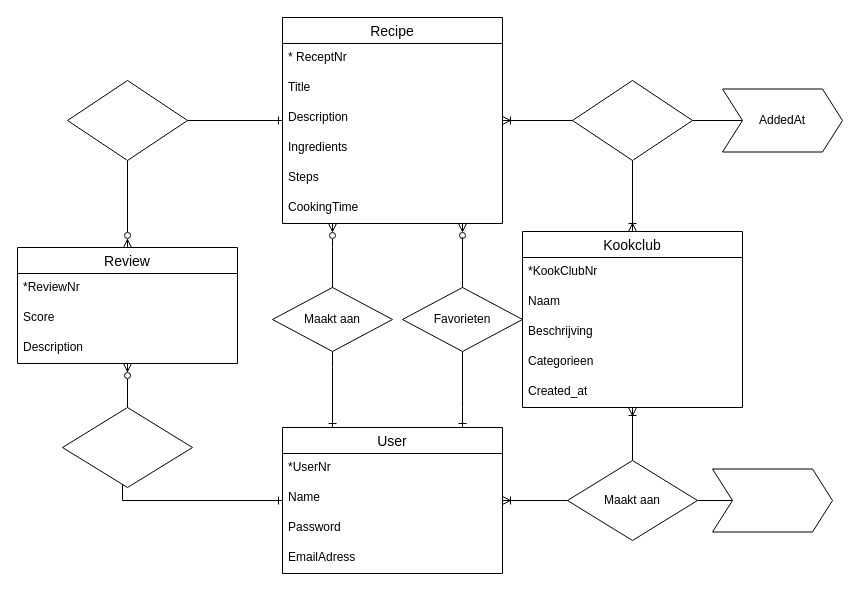
The diagram is 860 pixels wide and 594 high, and some of its shapes have lost their labels. The shapes that lost their labels are listed below. From the top down, each one's centre as x and y in pixels, then its label:
At point (127, 120): "hoort bij".
At point (632, 120): "Word toegevoegd".
At point (127, 447): "Schrijft".
At point (772, 500): "JoinDate".
